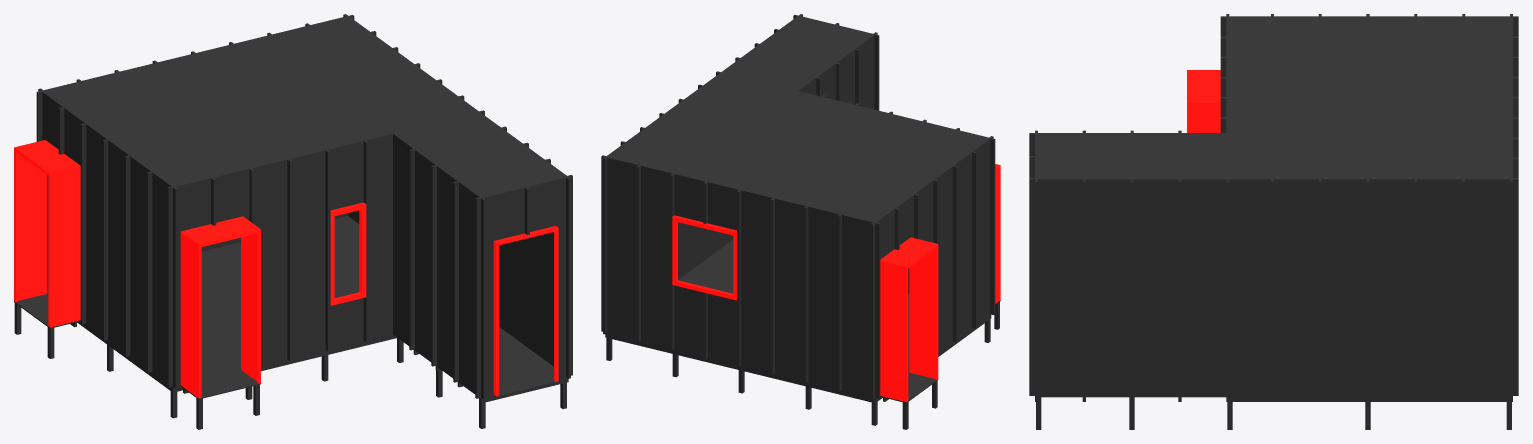
The model's file is VanAstenDoomen.FBX.
3 views of the same model, side by side, from view 1: azimuth 30°, elevation 25°; view 2: azimuth 150°, elevation 25°; view 3: azimuth 270°, elevation 25° (orthographic). The views are drawn at different scales.
Visible parts, largest first — view 1: VanAstenDoomen; view 2: VanAstenDoomen; view 3: VanAstenDoomen.
Part boxes in pixels (<box>): VanAstenDoomen: <box>14,14,572,429</box>; VanAstenDoomen: <box>601,14,1000,429</box>; VanAstenDoomen: <box>1029,14,1518,429</box>.
Size of what is drawn, in the model's own units: 549 by 624 by 354.
